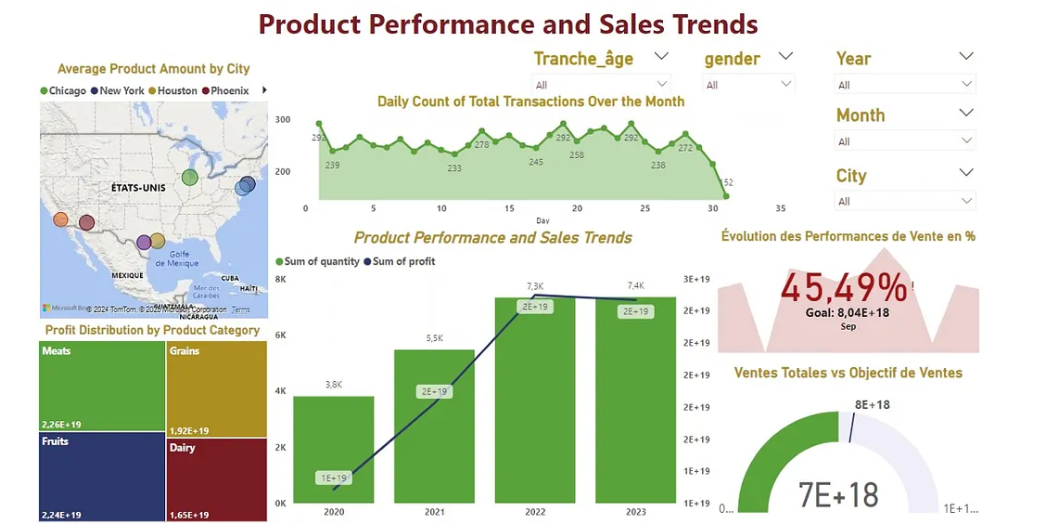

Layout of this report page (visuals, bound fields, positions):
{"tool":"powerbi","page":{"name":"dash2","canvas":[1280,720],"ordinal":1},"visuals":[{"type":"textbox","box":[8.3,15,1271.7,83.3],"z":0},{"type":"lineStackedColumnComboChart","title":"Product Performance and Sales Trends ","fields":{"Y":["Sum(Table1.quantity)"],"Y2":["Sum(Table1.profit)"],"Category":["DateTable.Year"]},"box":[319,320.6,596.8,400],"z":1000},{"type":"treemap","title":"Profit Distribution by Product Category","fields":{"Group":["dim_product.category"],"Values":["Sum(Table1.profit)"]},"box":[0,447.6,319,273],"z":2000},{"type":"map","title":"Average Product Amount by City ","fields":{"Category":["dim_customer.city"],"Series":["dim_customer.city"],"Size":["Sum(Table1.average_amount_per_product)"]},"box":[1.6,95.2,319,352.4],"z":3000},{"type":"kpi","title":"Évolution des Performances de Vente en %","fields":{"Indicator":["Table1.Sales_Growth_Percentage"],"Goal":["Table1.Sales_Target"],"TrendLine":["DateTable.Month"]},"box":[915.9,320.6,363.5,173],"z":4000},{"type":"gauge","title":"Ventes Totales vs Objectif de Ventes","fields":{"TargetValue":["Table1.Sales_Target"],"Y":["Table1.Total_Sales"]},"box":[915.9,503.2,363.5,217.5],"z":5000},{"type":"areaChart","title":"Daily Count of Total Transactions Over the Month","fields":{"Y":["CountNonNull(Table1.total_amount)"],"Category":["DateTable.Date.Variation.Date Hierarchy.Day"]},"box":[319,138.1,701.6,182.5],"z":6000},{"type":"slicer","fields":{"Values":["DateTable.Date.Variation.Date Hierarchy.Year"]},"box":[1068.3,73,211.1,76.2],"z":7000},{"type":"slicer","fields":{"Values":["DateTable.Date.Variation.Date Hierarchy.Month"]},"box":[1068.3,149.2,211.1,74.6],"z":8000},{"type":"slicer","fields":{"Values":["dim_customer.city"]},"box":[1068.3,230.2,211.1,74.6],"z":9000},{"type":"slicer","fields":{"Values":["dim_customer.gender"]},"box":[890.2,72.7,145.5,65.5],"z":10000},{"type":"slicer","fields":{"Values":["dim_customer.Tranche_âge"]},"box":[660.4,72.7,208,65.5],"z":11000}]}

Visuals, with their boxes on the page's 1280x720 design canvas (x1, y1, x2, y2). These are canvas units, not pixel positions in the 1039x532 screenshot, which may show the page scaled, cropped or inside an application window:
textbox: bbox=[8, 15, 1280, 98]
"Product Performance and Sales Trends " lineStackedColumnComboChart: bbox=[319, 321, 916, 721]
"Profit Distribution by Product Category" treemap: bbox=[0, 448, 319, 721]
"Average Product Amount by City " map: bbox=[2, 95, 321, 448]
"Évolution des Performances de Vente en %" kpi: bbox=[916, 321, 1279, 494]
"Ventes Totales vs Objectif de Ventes" gauge: bbox=[916, 503, 1279, 721]
"Daily Count of Total Transactions Over the Month" areaChart: bbox=[319, 138, 1021, 321]
slicer - DateTable.Date.Variation.Date Hierarchy.Year: bbox=[1068, 73, 1279, 149]
slicer - DateTable.Date.Variation.Date Hierarchy.Month: bbox=[1068, 149, 1279, 224]
slicer - dim_customer.city: bbox=[1068, 230, 1279, 305]
slicer - dim_customer.gender: bbox=[890, 73, 1036, 138]
slicer - dim_customer.Tranche_âge: bbox=[660, 73, 868, 138]
